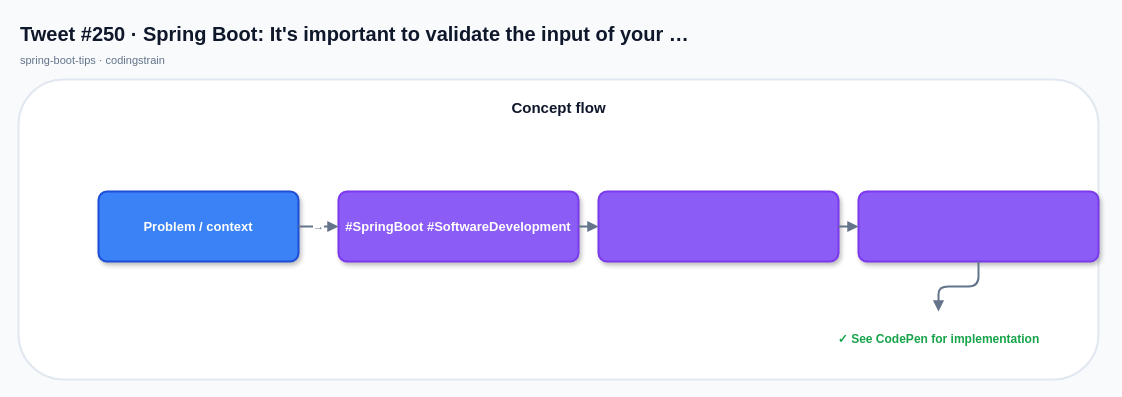
The diagram is 1122 pixels wide and 397 high, and some of its shapes have lost their labels. The centre of each missing label's shape, as x and y in pixels:
Architecture diagram + Carbon CodePen below: point 979,227
Runnable sample: `spring-boot-tips`: point 719,227
